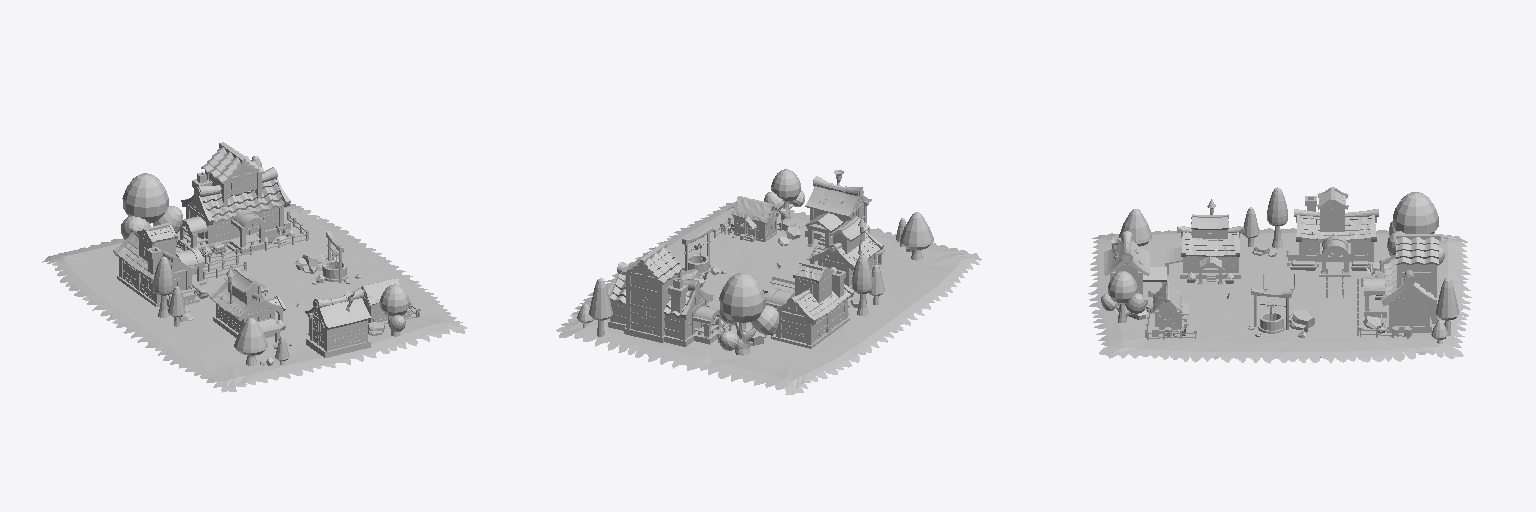
The model's file is villageHouse.obj.
3 renders of one model, left to right at view 1: azimuth 30°, elevation 25°; view 2: azimuth 150°, elevation 25°; view 3: azimuth 270°, elevation 25°, orthographic.
Visible parts, largest first — view 1: mat_2_mat_2_tex_0, mat_1_mat_1_tex_0, mat_3_mat_3_tex_0; view 2: mat_2_mat_2_tex_0, mat_1_mat_1_tex_0, mat_3_mat_3_tex_0; view 3: mat_2_mat_2_tex_0, mat_1_mat_1_tex_0, mat_3_mat_3_tex_0.
Boxes of the visible parts, x1,y1,x2,y2 form: mat_2_mat_2_tex_0: [42, 156, 466, 392]; mat_1_mat_1_tex_0: [113, 142, 400, 357]; mat_3_mat_3_tex_0: [176, 211, 420, 330]; mat_2_mat_2_tex_0: [556, 169, 981, 394]; mat_1_mat_1_tex_0: [608, 170, 884, 348]; mat_3_mat_3_tex_0: [682, 217, 794, 342]; mat_2_mat_2_tex_0: [1088, 187, 1471, 363]; mat_1_mat_1_tex_0: [1104, 187, 1440, 332]; mat_3_mat_3_tex_0: [1145, 260, 1412, 339].
Bounding box in the file's own units: 7068 × 2117 × 8502.